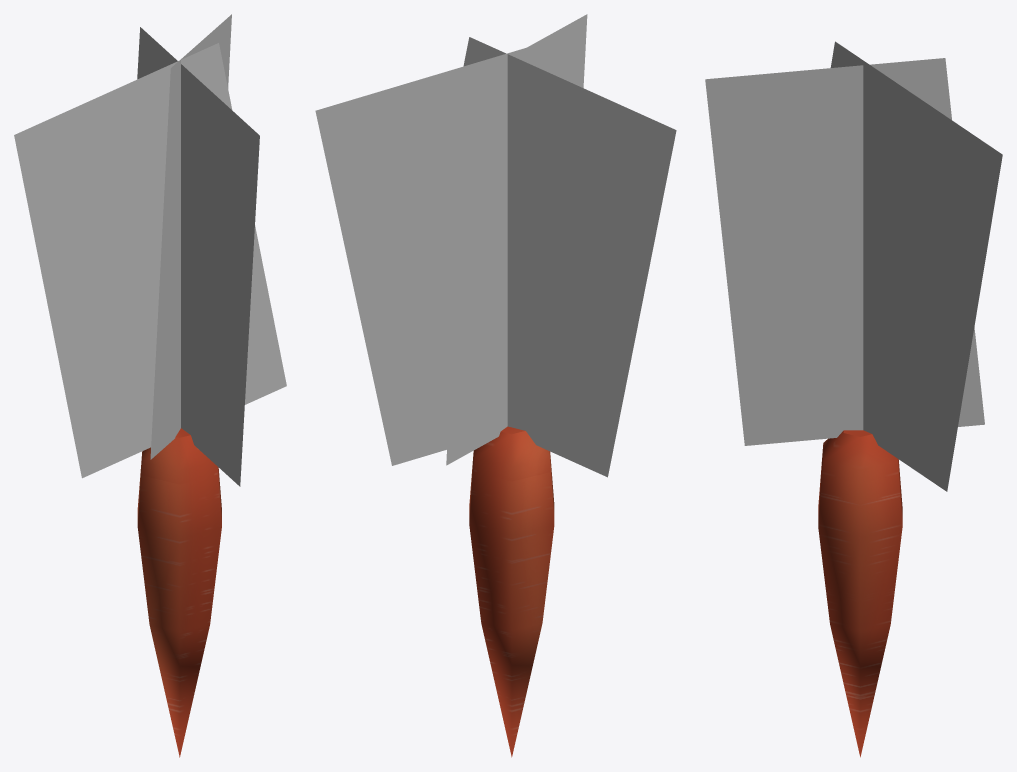
Rendered from GARDEN_CarrotFull.FBX.
3 renders of one model, left to right at view 1: azimuth 30°, elevation 25°; view 2: azimuth 150°, elevation 25°; view 3: azimuth 270°, elevation 25°, orthographic.
Visible parts, largest first — view 1: Plane803, Plane805, Cylinder055, Plane804; view 2: Plane803, Plane804, Plane805, Cylinder055; view 3: Plane805, Plane804, Cylinder055.
Boxes of the visible parts, left/top/right/bottom form: Plane803: left=14, top=43, right=286, bottom=478; Plane805: left=137, top=27, right=259, bottom=486; Cylinder055: left=137, top=428, right=221, bottom=757; Plane804: left=150, top=14, right=231, bottom=459; Plane803: left=463, top=37, right=676, bottom=477; Plane804: left=315, top=42, right=553, bottom=465; Plane805: left=446, top=14, right=587, bottom=465; Cylinder055: left=469, top=426, right=554, bottom=757; Plane805: left=705, top=58, right=984, bottom=445; Plane804: left=830, top=41, right=1002, bottom=491; Cylinder055: left=818, top=430, right=902, bottom=757.
Size of the model in its own units: 21.9 by 19.58 by 51.25.
